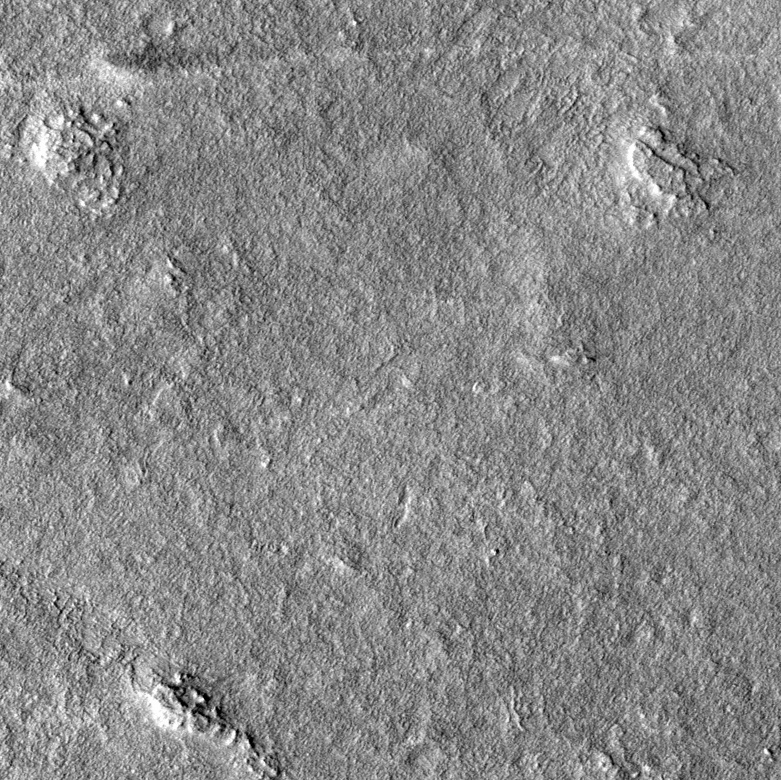dust_devil: (87, 46, 225, 85)
